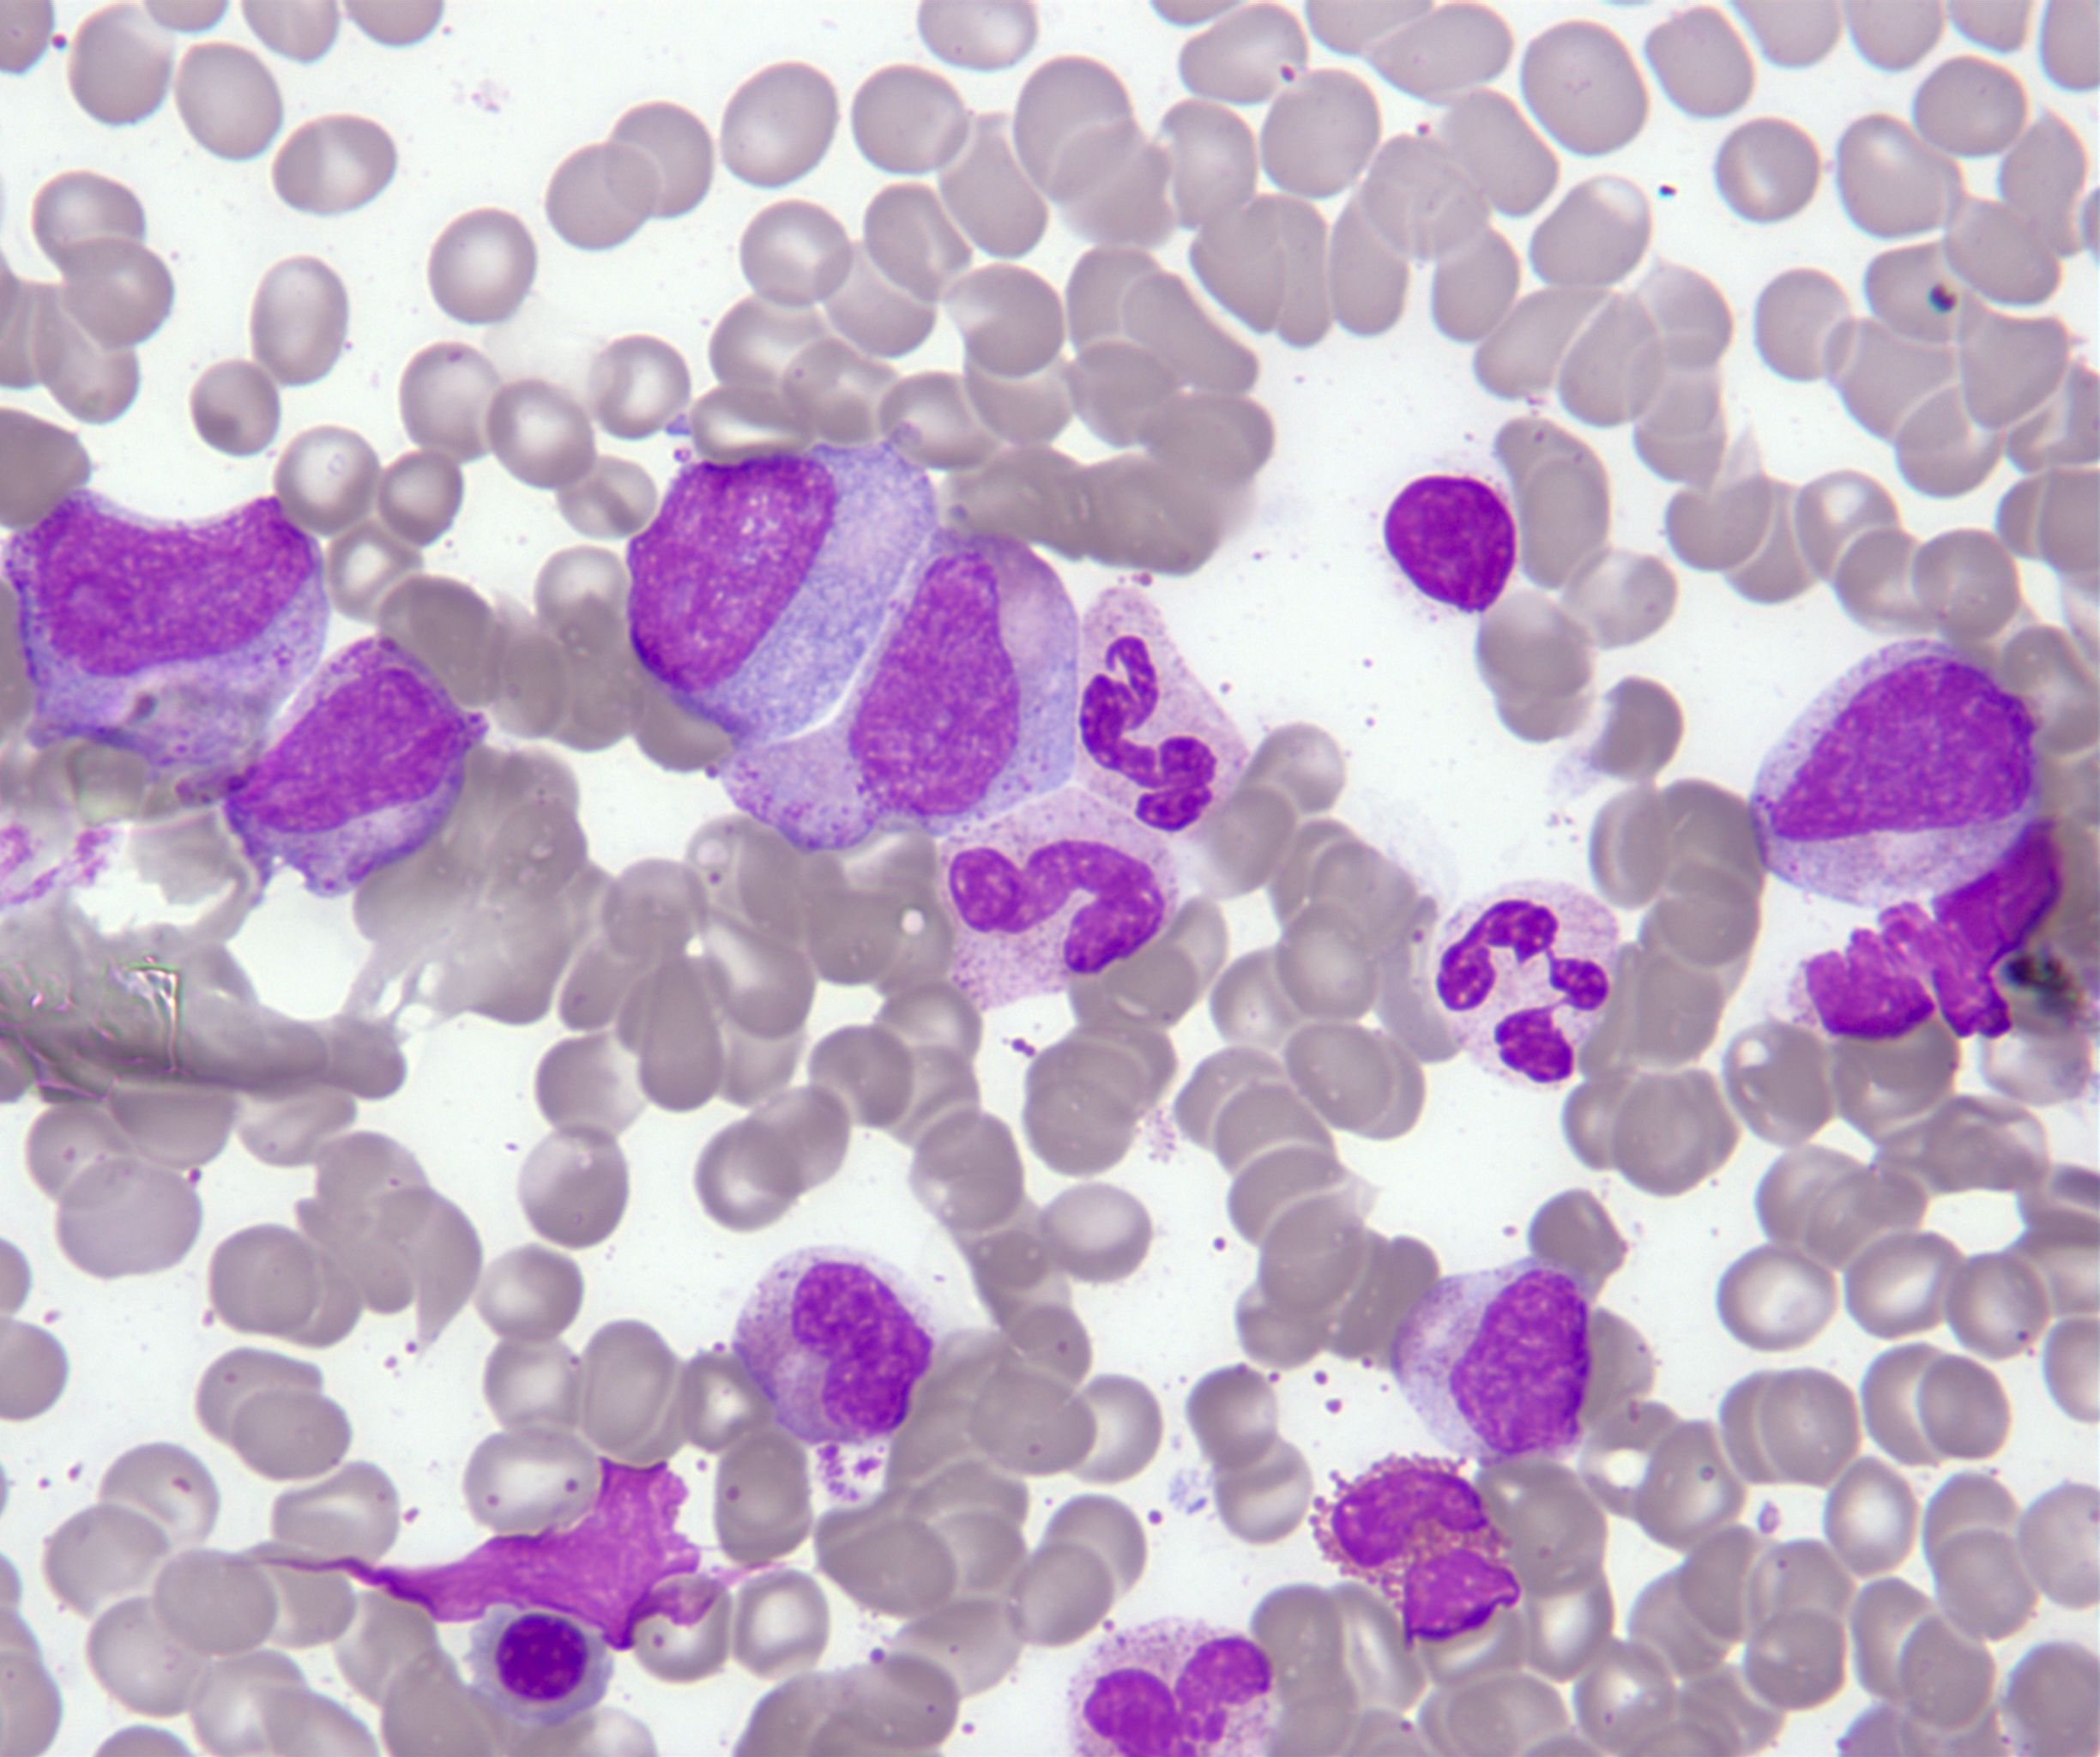2: (621, 438, 944, 754), (0, 482, 330, 771)
23: (460, 1598, 617, 1734)
3: (1744, 633, 2046, 913), (220, 632, 495, 907), (841, 530, 1080, 834), (1388, 1246, 1594, 1464)
4: (726, 1241, 938, 1450)
5: (937, 783, 1183, 1014)
6: (1078, 583, 1254, 850), (1420, 878, 1622, 1101)
E4: (1305, 1448, 1528, 1652)
x: (1380, 471, 1519, 616)
